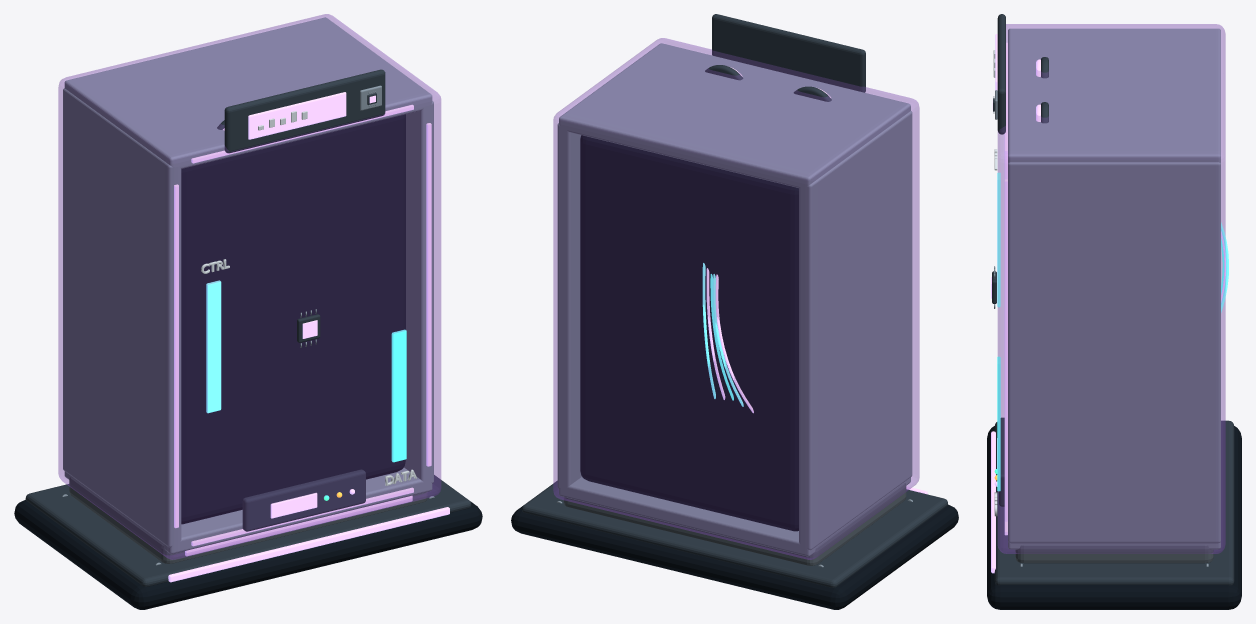
The model's file is Consumer_EDC.glb.
The picture shows the model from 3 angles, left to right: view 1: azimuth 30°, elevation 25°; view 2: azimuth 150°, elevation 25°; view 3: azimuth 270°, elevation 25°; orthographic projection. The views are drawn at different scales.
Parts seen in each view (by area): view 1: Consumer_EDC_GlassShell, Consumer_EDC_Cabinet, Consumer_EDC_Post_-0.98, Consumer_EDC_Beam_2.34, Consumer_EDC_Base0, Consumer_EDC_Post_0.98, Consumer_EDC_Base1, Consumer_EDC_TopConsole, Consumer_EDC_Mgmt, Consumer_EDC_Beam_-0.5, Consumer_EDC_Plinth, Consumer_EDC_FrontGlow (+9 smaller); view 2: Consumer_EDC_GlassShell, Consumer_EDC_Cabinet, Consumer_EDC_Post_-0.98, Consumer_EDC_Beam_2.34, Consumer_EDC_Base0, Consumer_EDC_Base1, Consumer_EDC_Post_0.98, Consumer_EDC_TopConsole, Consumer_EDC_Beam_-0.5, Consumer_EDC_Plinth; view 3: Consumer_EDC_GlassShell, Consumer_EDC_Post_0.98, Consumer_EDC_Beam_2.34, Consumer_EDC_Base0, Consumer_EDC_Base1, Consumer_EDC_Plinth, Consumer_EDC_GlowPost_0.98, Consumer_EDC_TopConsole, Consumer_EDC_FrontGlow, Consumer_EDC_Beam_-0.5, Consumer_EDC_ControlPlaneMarker, Consumer_EDC_DataPlaneMarker (+1 smaller).
Part boxes in pixels (x1,y1,x2,y2): Consumer_EDC_GlassShell: (58, 14, 440, 559); Consumer_EDC_Cabinet: (181, 114, 405, 524); Consumer_EDC_Post_-0.98: (63, 88, 181, 547); Consumer_EDC_Beam_2.34: (64, 17, 432, 169); Consumer_EDC_Base0: (14, 499, 482, 609); Consumer_EDC_Post_0.98: (404, 101, 433, 484); Consumer_EDC_Base1: (25, 475, 471, 586); Consumer_EDC_TopConsole: (224, 69, 385, 153); Consumer_EDC_Mgmt: (242, 469, 365, 531); Consumer_EDC_Beam_-0.5: (64, 467, 432, 554); Consumer_EDC_Plinth: (69, 477, 427, 563); Consumer_EDC_FrontGlow: (168, 507, 449, 582); Consumer_EDC_GlassShell: (553, 38, 919, 559); Consumer_EDC_Cabinet: (580, 135, 798, 531); Consumer_EDC_Post_-0.98: (799, 111, 912, 550); Consumer_EDC_Beam_2.34: (559, 43, 910, 188); Consumer_EDC_Base0: (511, 504, 958, 609); Consumer_EDC_Base1: (522, 481, 947, 587); Consumer_EDC_Post_0.98: (557, 123, 581, 489); Consumer_EDC_TopConsole: (712, 14, 865, 92); Consumer_EDC_Beam_-0.5: (559, 477, 910, 556); Consumer_EDC_Plinth: (563, 483, 906, 565); Consumer_EDC_GlassShell: (998, 24, 1225, 553); Consumer_EDC_Post_0.98: (1008, 162, 1220, 543); Consumer_EDC_Beam_2.34: (1008, 28, 1220, 162); Consumer_EDC_Base0: (987, 426, 1241, 609); Consumer_EDC_Base1: (994, 420, 1234, 585); Consumer_EDC_Plinth: (1015, 544, 1213, 563); Consumer_EDC_GlowPost_0.98: (1004, 179, 1007, 521); Consumer_EDC_TopConsole: (997, 14, 1005, 134); Consumer_EDC_FrontGlow: (991, 431, 995, 573); Consumer_EDC_Beam_-0.5: (1008, 542, 1220, 549); Consumer_EDC_ControlPlaneMarker: (997, 172, 1000, 307); Consumer_EDC_DataPlaneMarker: (997, 356, 1000, 491).
Bounding box in the file's own units: 2.72 × 3.56 × 1.72.
